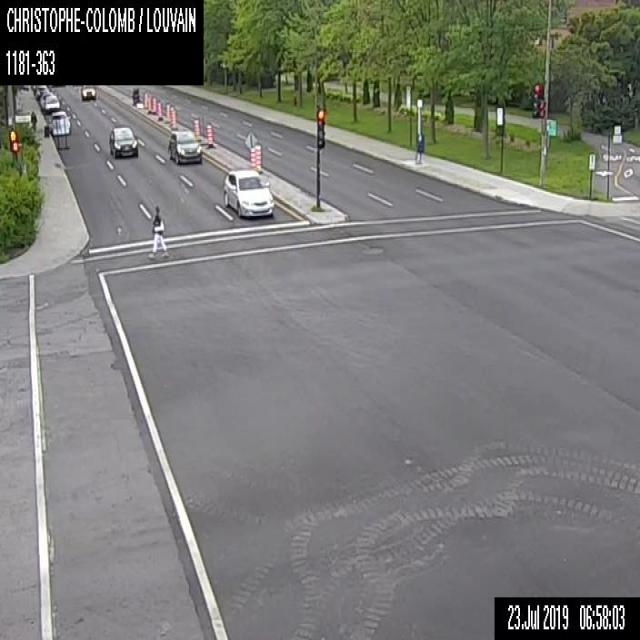construction: (52, 118, 62, 150), (61, 116, 69, 150), (254, 143, 261, 169), (204, 123, 212, 145), (192, 117, 199, 139), (171, 109, 177, 129), (250, 148, 255, 169), (169, 105, 174, 124), (165, 103, 170, 121), (157, 102, 162, 119), (152, 96, 156, 114), (147, 96, 151, 112), (143, 92, 147, 107)
pedestrian: (148, 204, 167, 256), (30, 108, 36, 131)
vehicle: (222, 169, 274, 218), (167, 128, 202, 162), (108, 124, 138, 159), (49, 110, 70, 134), (39, 90, 56, 108), (44, 95, 60, 112), (33, 84, 49, 99), (80, 84, 95, 99)
